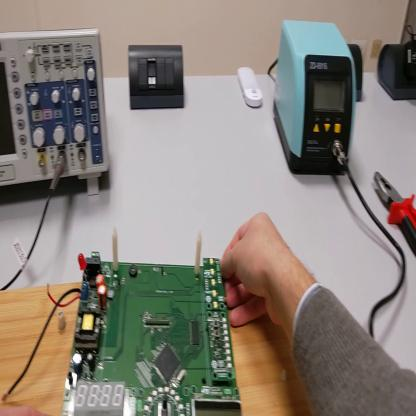hand: (221, 212, 292, 333)
low voltage board: (3, 227, 242, 413)
oscilloscope: (2, 36, 114, 201)
pliers: (375, 170, 416, 254)
socket: (378, 42, 415, 102), (348, 41, 363, 101)
welder station: (275, 19, 357, 177)
working area: (2, 282, 308, 416)
